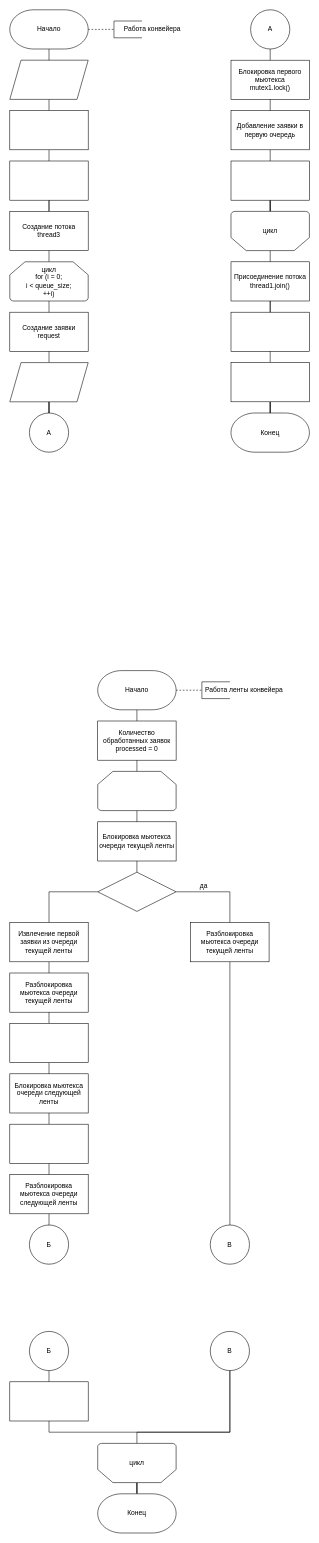
The diagram is 319 pixels wide and 1543 high, and some of its shapes have lost their labels. The shapes that lost their labels are listed below. From the top down, each one's box as (x1, y1, x2, y2) in pixels, then its label:
(9, 60, 88, 99): Ввод количества заявок queue_size
(9, 110, 88, 150): Создание потока thread1
(9, 160, 88, 200): Создание потока thread2
(230, 160, 309, 200): Разблокировка первого мьютекса mutex1.unlock()
(230, 312, 309, 351): Присоединение потока thread2.join()
(9, 362, 88, 402): Ввод исходной матрицы
(230, 362, 309, 402): Присоединение потока thread3.join()
(97, 771, 176, 811): цикл while (processed != queue_size)
(97, 872, 176, 911): очередь текущей ленты пуста?
(9, 1023, 88, 1063): Обработка извлеченной заявки
(9, 1124, 88, 1163): Отправка заявки в очередь следующей ленты
(9, 1381, 88, 1421): Увеличение количества обработанных заявок processed += 1
